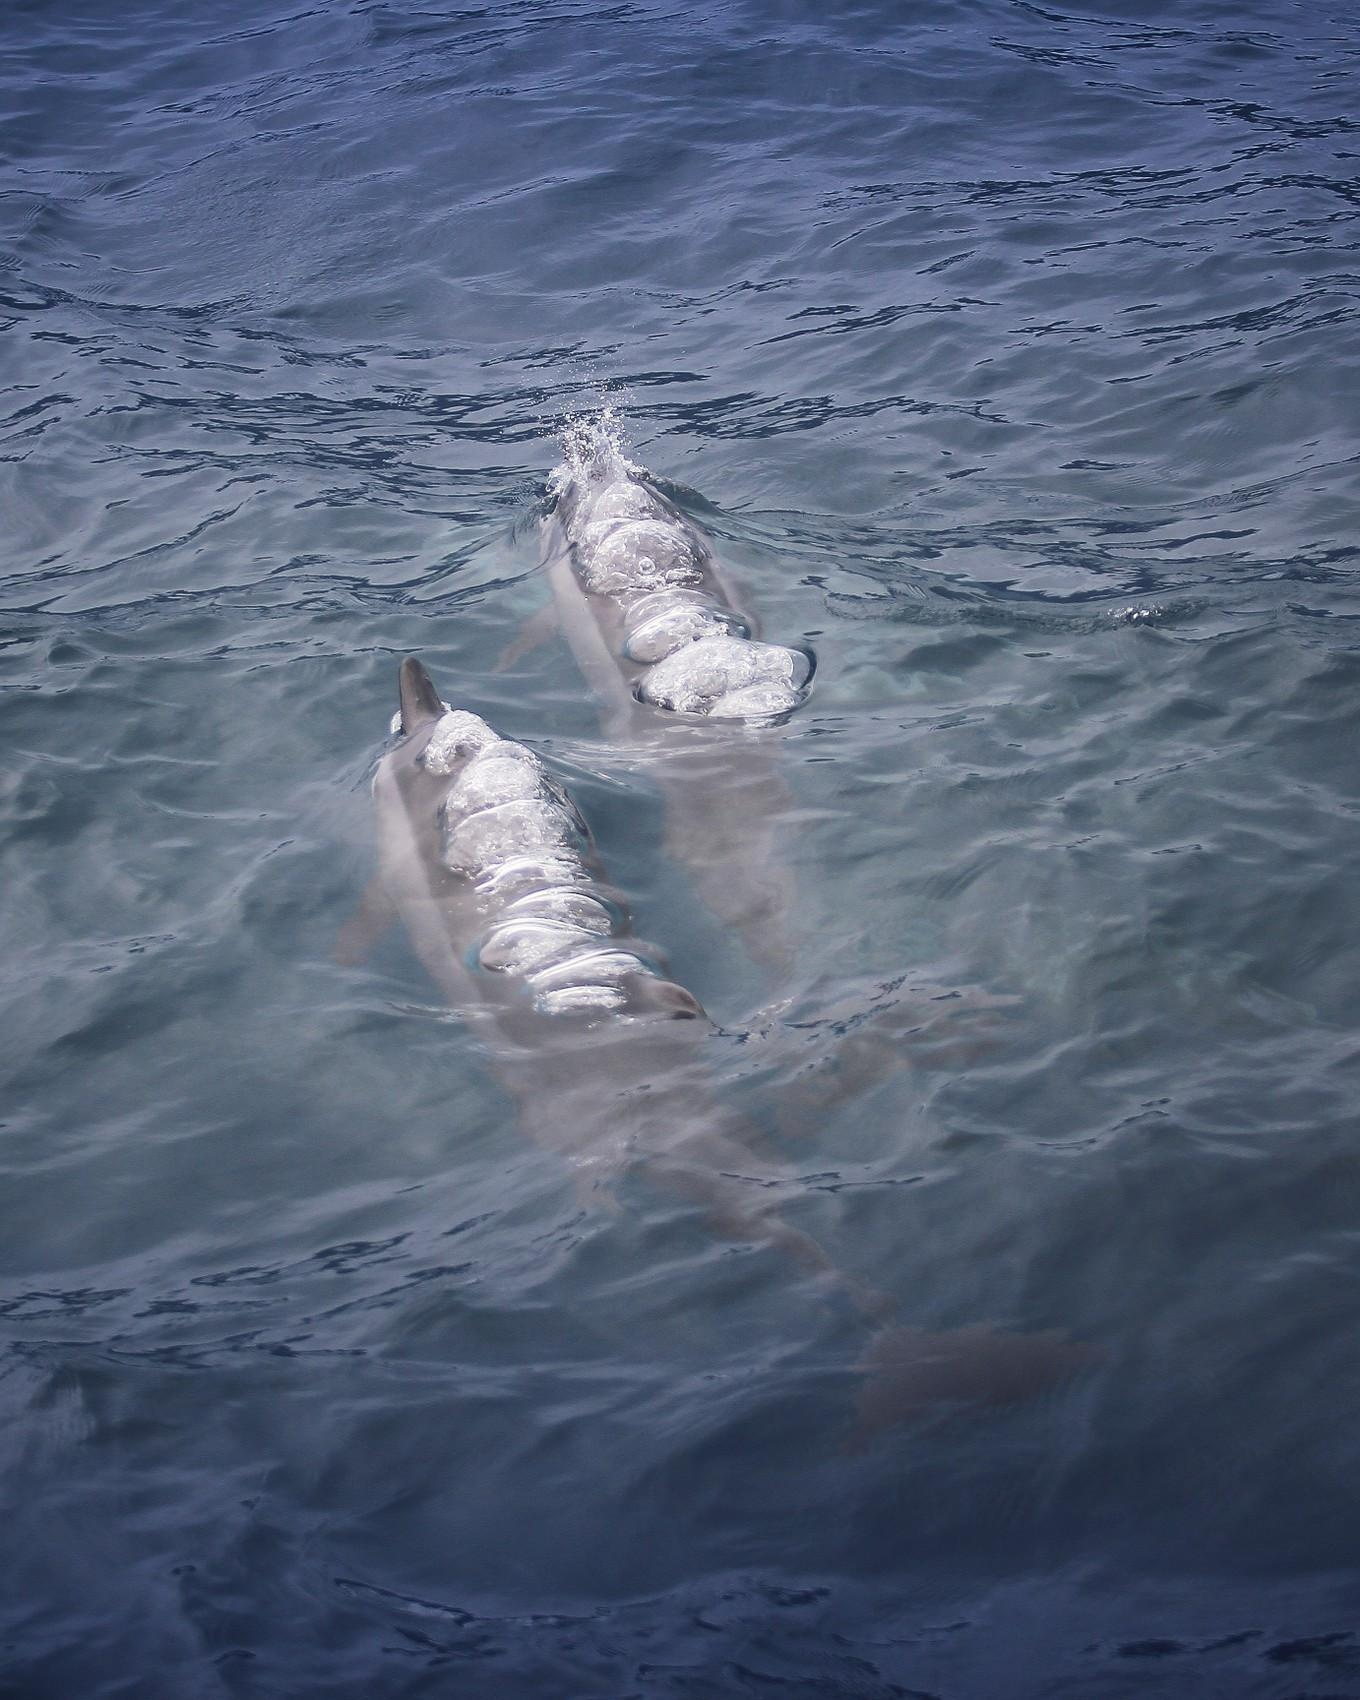fish: (308, 615, 1080, 1421), (494, 386, 1023, 1119)
